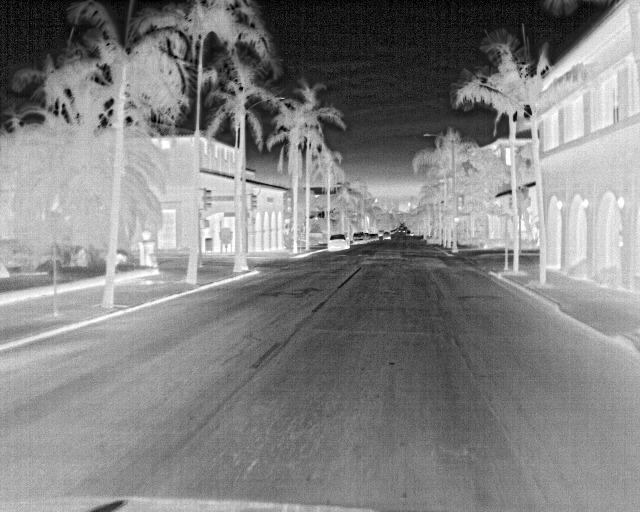car: (327, 234, 350, 251), (353, 232, 367, 244), (365, 233, 372, 243), (383, 232, 391, 240), (371, 234, 379, 241), (378, 230, 385, 237), (407, 230, 410, 234), (390, 231, 394, 234), (398, 230, 401, 232), (403, 230, 405, 232)
light: (204, 189, 211, 207), (286, 197, 292, 213), (251, 194, 257, 208), (458, 197, 463, 211), (202, 220, 209, 227), (284, 224, 291, 230), (453, 218, 459, 224), (251, 217, 256, 224)
sign: (211, 195, 234, 201), (224, 213, 236, 217)
